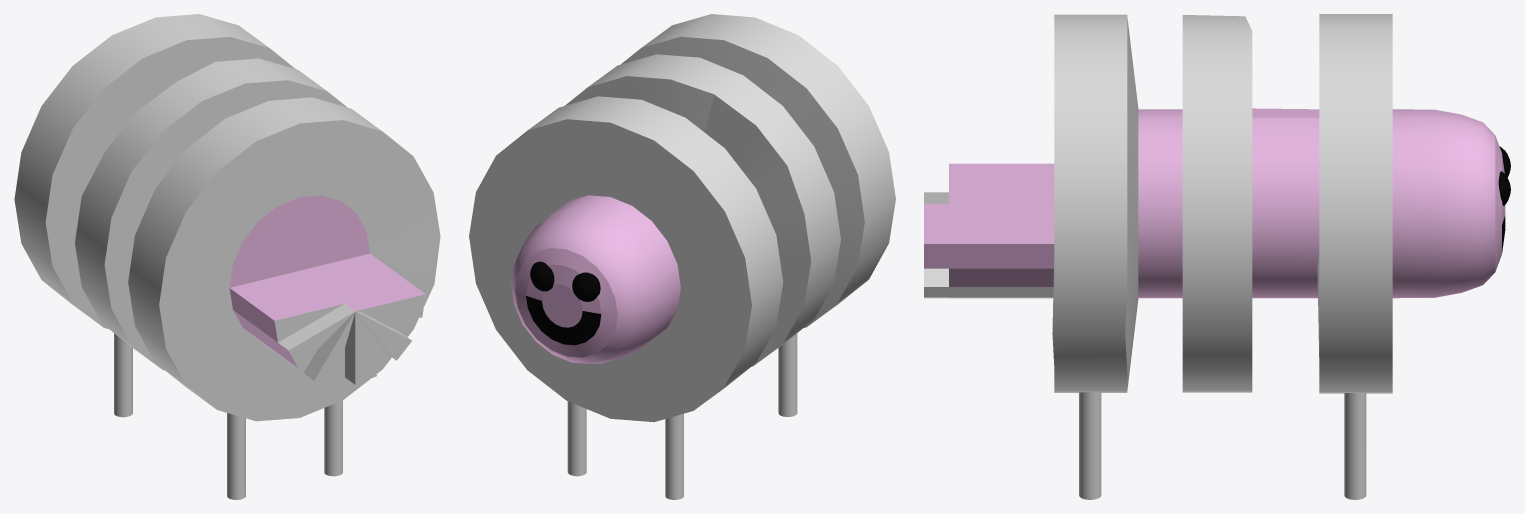
Rendered from susheep.fbx.
The picture shows the model from 3 angles, left to right: view 1: azimuth 30°, elevation 25°; view 2: azimuth 150°, elevation 25°; view 3: azimuth 270°, elevation 25°; orthographic projection. The views are drawn at different scales.
Parts seen in each view (by area): view 1: susheep1; view 2: susheep1; view 3: susheep1.
Part boxes in pixels (x1,y1,x2,y2): susheep1: (14, 14, 440, 499); susheep1: (469, 14, 895, 499); susheep1: (924, 14, 1510, 499).
Size of the model in its own units: 574 by 723 by 880.
